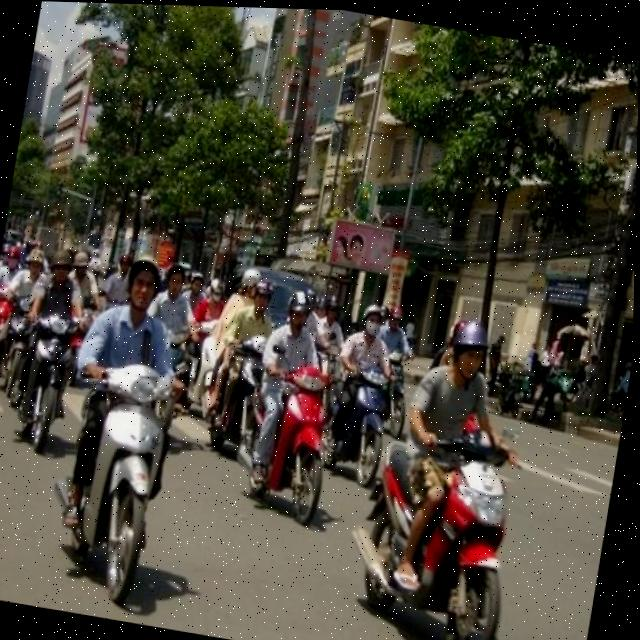motorcycle: (42, 345, 212, 613), (346, 418, 537, 640), (243, 346, 347, 528), (0, 296, 87, 456), (198, 329, 282, 468), (322, 351, 406, 487), (0, 284, 26, 393)
